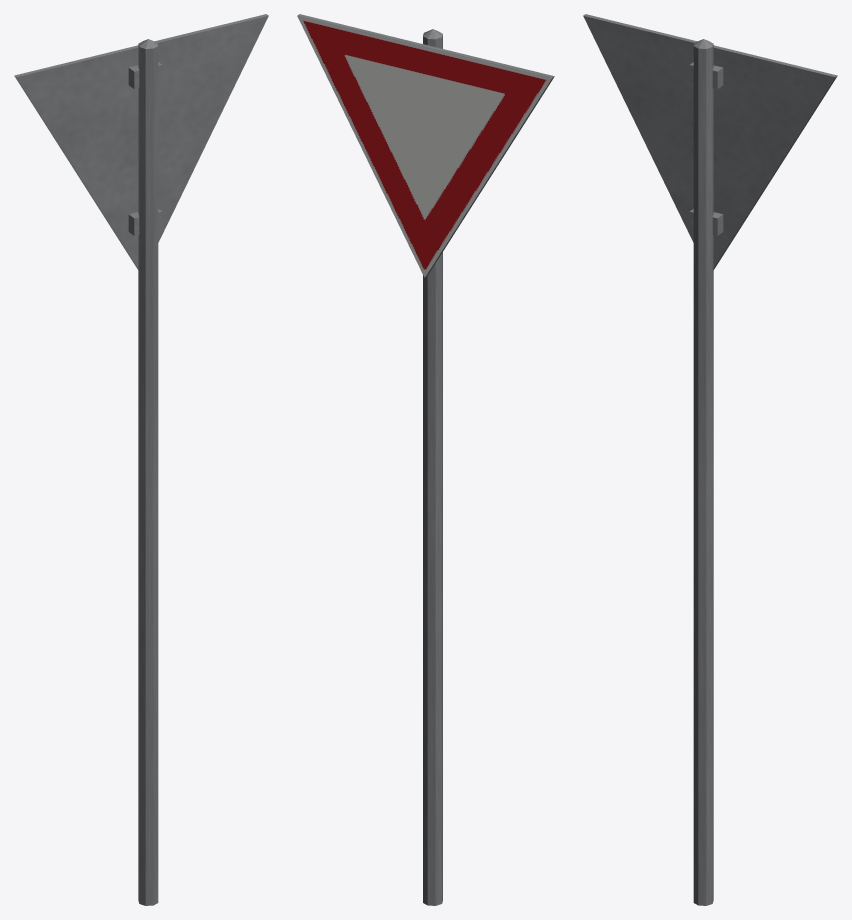
Rendered from SM_Morin_CartelloPrecedenza.fbx.
3 renders of one model, left to right at view 1: azimuth 30°, elevation 25°; view 2: azimuth 150°, elevation 25°; view 3: azimuth 330°, elevation 25°, orthographic.
Visible parts, largest first — view 1: SM_Morin_CartelloPrecedenza; view 2: SM_Morin_CartelloPrecedenza; view 3: SM_Morin_CartelloPrecedenza.
Boxes of the visible parts, left/top/right/bottom form: SM_Morin_CartelloPrecedenza: left=14, top=14, right=268, bottom=905; SM_Morin_CartelloPrecedenza: left=297, top=14, right=554, bottom=905; SM_Morin_CartelloPrecedenza: left=583, top=14, right=837, bottom=905.
Size of what is drawn, in the model's own units: 90 by 8.2 by 294.
1 material, 1 textured.
